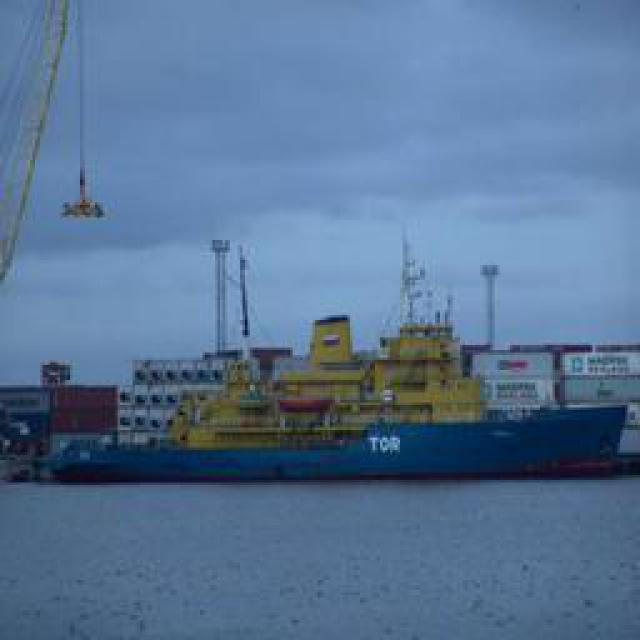Ship: (15, 317, 634, 487)
